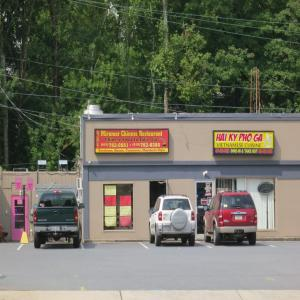Vehicle-registration-plate: (236, 215, 243, 221), (165, 226, 171, 232), (53, 228, 60, 233)
